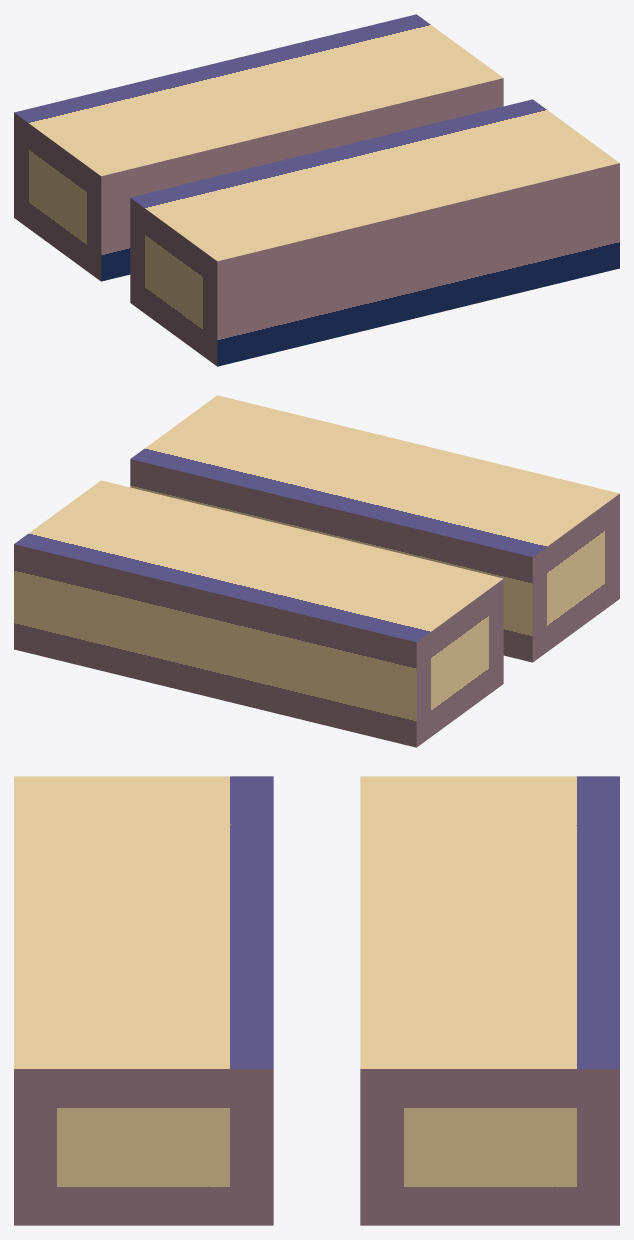
File: BridgeMiddle.gltf
The picture shows the model from 3 angles, top to bottom: view 1: azimuth 30°, elevation 25°; view 2: azimuth 150°, elevation 25°; view 3: azimuth 270°, elevation 25°; orthographic projection. The views are drawn at different scales.
Parts seen in each view (by area): view 1: mesh; view 2: mesh; view 3: mesh.
Boxes of the visible parts, left/top/right/bottom form: mesh: left=14, top=14, right=619, bottom=366; mesh: left=14, top=395, right=619, bottom=747; mesh: left=14, top=776, right=619, bottom=1225.
Size of the model in its own units: 1 by 0.25 by 0.875.
1 material, 1 textured.
